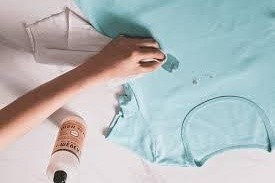oil: (164, 56, 183, 74), (205, 73, 214, 80), (191, 80, 199, 87)
